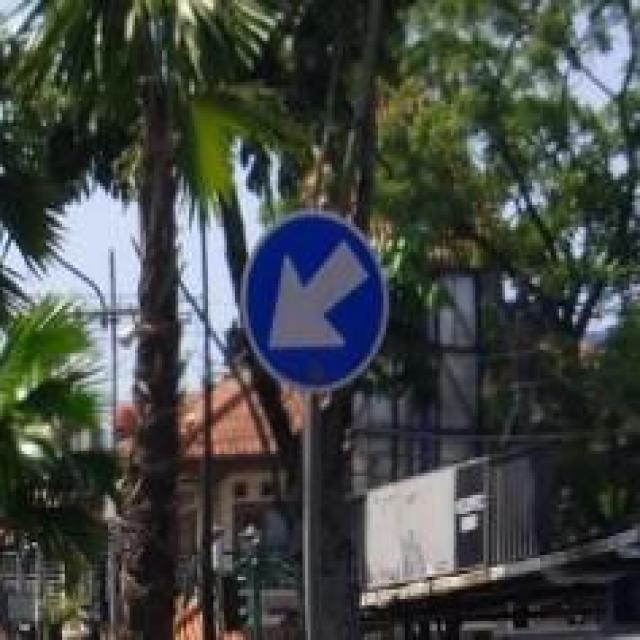traffic sign: (246, 211, 384, 390)
